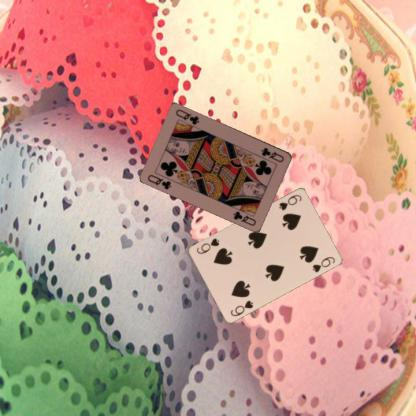6s: (228, 298, 255, 317), (277, 192, 303, 211)
Qc: (145, 172, 173, 191), (259, 145, 285, 164)
